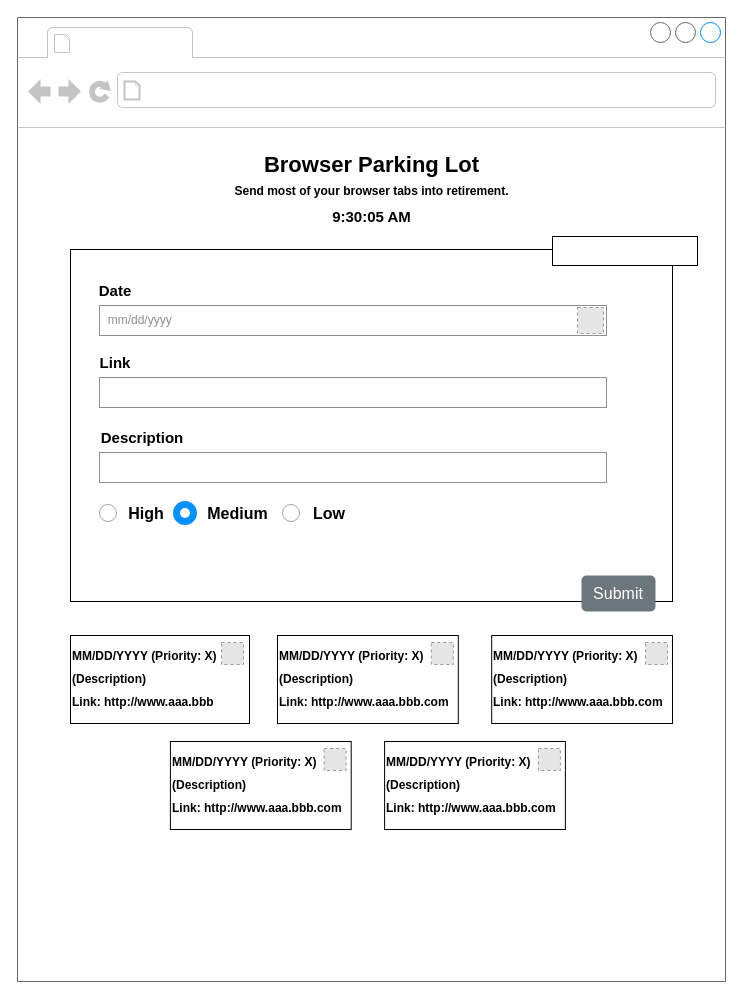
Some shapes in this 743 by 999 pixel diagram are drawn without their labels. Grey dashed boxes stand in for pictures. The shapes that lost their labels are listed below. From the top down, each one's centre as x and y in pixels, then its label:
the point at 132,42: Page 1
the point at 272,90: https://www.draw.io
the point at 625,251: Switch to Light Theme
